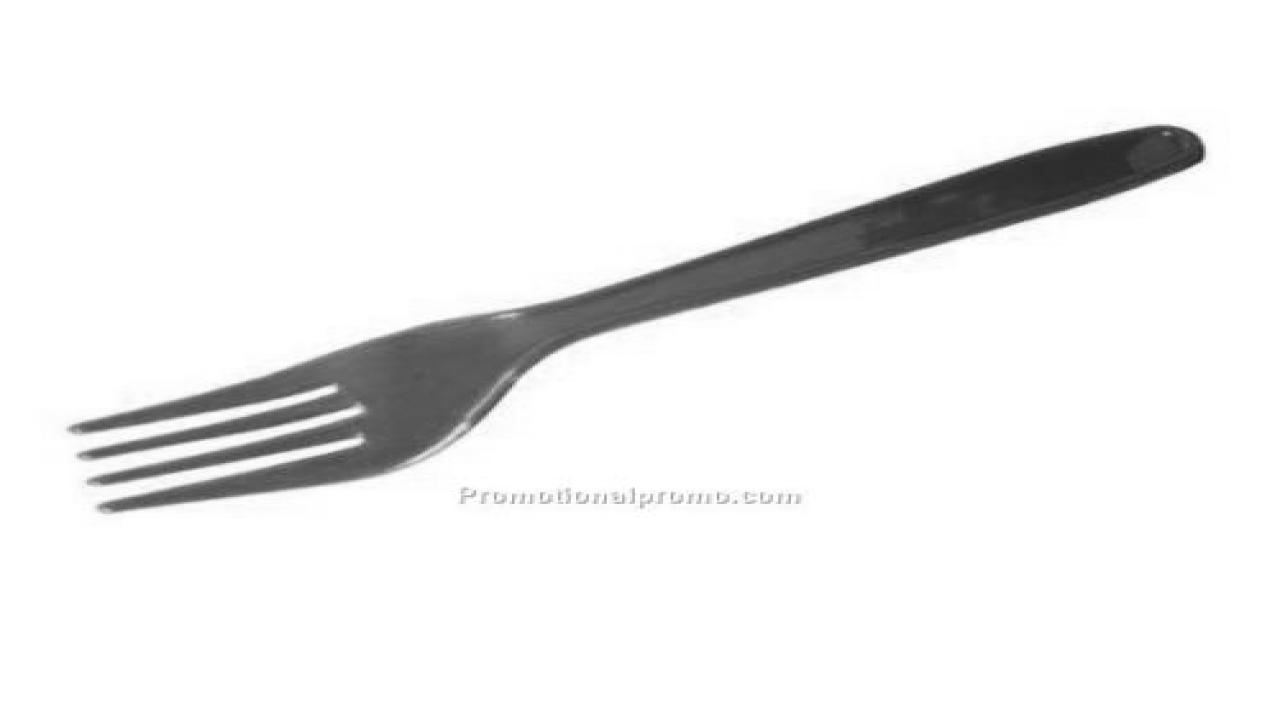fork: (64, 121, 1206, 514)
